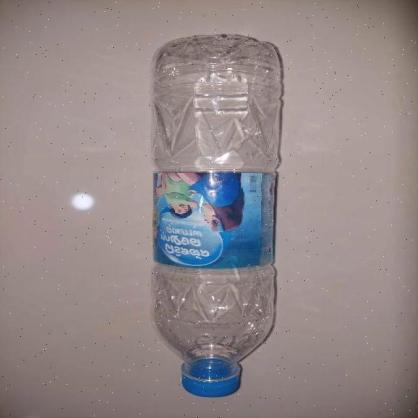bottle: (148, 34, 284, 400)
cap: (180, 367, 244, 395)
label: (154, 168, 280, 271)
